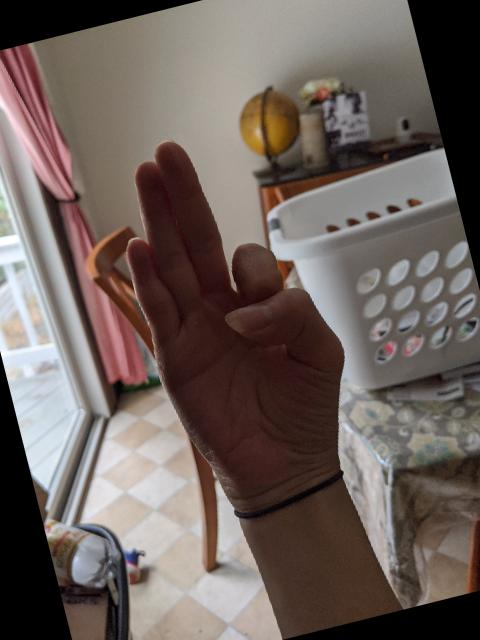F: (93, 107, 380, 530)
